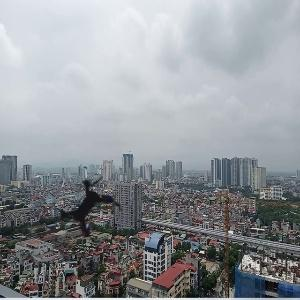drone: (30, 147, 151, 268)
